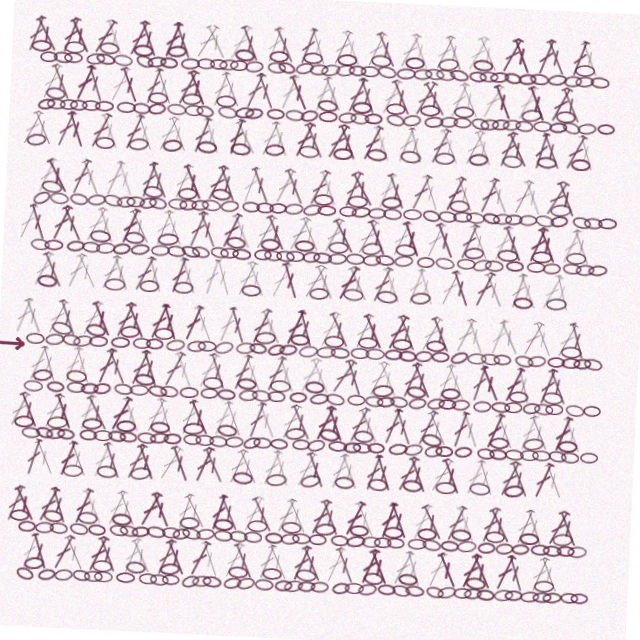chain: (51, 332, 74, 349), (307, 473, 329, 490), (26, 202, 47, 219), (426, 427, 448, 443), (451, 343, 471, 360), (177, 250, 198, 266), (469, 250, 490, 266), (215, 344, 236, 360), (35, 192, 57, 207), (528, 427, 550, 442), (137, 474, 159, 489), (123, 62, 143, 78), (265, 62, 285, 78), (552, 109, 572, 125), (268, 344, 288, 360), (248, 438, 268, 454), (27, 579, 47, 595), (193, 579, 213, 595), (83, 62, 104, 77), (365, 62, 386, 77), (437, 62, 458, 77), (97, 203, 118, 218), (297, 203, 318, 218), (358, 239, 379, 254), (86, 333, 107, 348), (324, 427, 345, 442), (409, 438, 430, 453), (52, 521, 73, 536), (191, 532, 212, 547), (449, 579, 470, 594), (511, 99, 533, 113), (392, 146, 414, 160), (375, 287, 397, 301), (375, 381, 397, 395), (273, 475, 295, 489), (324, 522, 346, 536), (307, 569, 329, 583), (283, 62, 303, 77), (290, 109, 310, 124), (430, 391, 450, 406), (40, 438, 60, 453), (312, 438, 332, 453), (248, 579, 268, 594), (222, 52, 243, 66), (426, 52, 447, 66), (35, 99, 56, 113), (307, 99, 328, 113), (18, 146, 39, 160), (120, 146, 141, 160), (222, 146, 243, 160), (494, 146, 515, 160), (137, 193, 158, 207), (222, 240, 243, 254), (409, 287, 430, 301), (35, 381, 56, 395), (137, 381, 158, 395), (409, 381, 430, 395), (222, 428, 243, 442), (290, 428, 311, 442), (375, 475, 396, 489), (511, 475, 532, 489), (35, 569, 56, 583), (137, 569, 158, 583), (171, 569, 192, 583), (375, 569, 396, 583), (477, 569, 498, 583), (135, 63, 155, 77), (309, 63, 329, 77), (27, 110, 47, 124), (208, 110, 228, 124), (376, 110, 396, 124), (461, 110, 481, 124), (133, 204, 153, 218), (530, 204, 550, 218), (567, 204, 587, 218), (127, 251, 147, 265), (432, 251, 452, 265), (74, 345, 94, 359), (167, 345, 187, 359), (300, 345, 320, 359), (516, 345, 536, 359), (585, 345, 605, 359), (313, 392, 333, 406), (329, 392, 349, 406), (569, 392, 589, 406), (79, 533, 99, 547), (129, 533, 149, 547), (432, 533, 452, 547), (49, 580, 69, 594), (235, 580, 255, 594), (296, 580, 316, 594), (370, 580, 390, 594), (154, 146, 175, 159), (205, 193, 226, 206), (545, 193, 566, 206), (86, 240, 107, 253), (154, 240, 175, 253), (392, 240, 413, 253), (35, 287, 56, 300), (545, 287, 566, 300), (256, 334, 277, 347), (69, 381, 90, 394), (52, 428, 73, 441), (188, 428, 209, 441), (477, 475, 498, 488), (562, 522, 583, 535), (492, 63, 511, 77), (186, 110, 205, 124), (235, 110, 254, 124), (143, 204, 162, 218), (417, 204, 436, 218), (477, 204, 496, 218), (109, 251, 128, 265), (188, 251, 207, 265), (412, 392, 431, 406), (430, 439, 449, 453), (182, 533, 201, 547), (344, 580, 363, 594), (404, 580, 423, 594), (438, 580, 457, 594), (87, 52, 107, 65), (155, 52, 175, 65), (359, 52, 379, 65), (461, 52, 481, 65), (41, 63, 61, 76), (74, 63, 94, 76), (207, 63, 227, 76), (324, 63, 344, 76), (413, 63, 433, 76), (424, 63, 444, 76), (478, 63, 498, 76), (518, 63, 538, 76), (536, 63, 556, 76), (172, 99, 192, 112), (157, 110, 177, 123), (225, 110, 245, 123), (189, 146, 209, 159), (257, 146, 277, 159), (291, 146, 311, 159), (359, 146, 379, 159), (461, 146, 481, 159), (529, 146, 549, 159), (376, 193, 396, 206), (44, 204, 64, 217), (196, 204, 216, 217), (279, 204, 299, 217), (346, 204, 366, 217), (121, 240, 141, 253), (461, 240, 481, 253), (27, 251, 47, 264), (372, 251, 392, 264), (391, 251, 411, 264), (342, 287, 362, 300), (121, 334, 141, 347), (46, 345, 66, 358), (237, 345, 257, 358), (482, 345, 502, 358), (240, 381, 260, 394), (308, 381, 328, 394), (546, 381, 566, 394), (117, 392, 137, 405), (151, 392, 171, 405), (242, 392, 262, 405), (255, 392, 275, 405), (87, 428, 107, 441), (359, 428, 379, 441), (51, 439, 71, 452), (155, 439, 175, 452), (394, 439, 414, 452), (104, 475, 124, 488), (240, 475, 260, 488), (342, 475, 362, 488), (410, 475, 430, 488), (87, 522, 107, 535), (121, 522, 141, 535), (461, 522, 481, 535), (119, 533, 139, 546), (156, 533, 176, 546), (356, 533, 376, 546), (467, 533, 487, 546), (410, 569, 430, 582), (204, 580, 224, 593), (214, 580, 234, 593), (417, 580, 437, 593), (506, 580, 526, 593), (52, 53, 73, 65), (494, 241, 515, 253), (528, 241, 549, 253), (103, 288, 124, 300), (562, 335, 583, 347), (273, 382, 294, 394), (443, 476, 464, 488), (138, 110, 157, 123), (393, 110, 412, 123), (430, 110, 449, 123), (482, 110, 501, 123), (493, 110, 512, 123), (64, 204, 83, 217), (82, 204, 101, 217), (215, 204, 234, 217), (545, 204, 564, 217), (63, 251, 82, 264), (207, 251, 226, 264), (299, 251, 318, 264), (63, 345, 82, 358), (250, 345, 269, 358), (280, 345, 299, 358), (416, 345, 435, 358), (529, 345, 548, 358), (96, 392, 115, 405), (163, 392, 182, 405), (393, 392, 412, 405), (455, 392, 474, 405), (526, 392, 545, 405), (113, 439, 132, 452), (460, 439, 479, 452), (554, 439, 573, 452), (206, 533, 225, 546), (66, 580, 85, 593), (84, 580, 103, 593), (476, 580, 495, 593), (19, 53, 39, 65), (121, 53, 141, 65), (257, 53, 277, 65), (291, 53, 311, 65), (325, 53, 345, 65), (393, 53, 413, 65), (563, 53, 583, 65), (101, 64, 121, 76), (138, 100, 158, 112), (206, 100, 226, 112), (342, 100, 362, 112), (376, 100, 396, 112), (410, 100, 430, 112), (444, 100, 464, 112), (546, 100, 566, 112), (568, 111, 588, 123), (87, 147, 107, 159), (325, 147, 345, 159), (427, 147, 447, 159), (563, 147, 583, 159), (172, 194, 192, 206), (308, 194, 328, 206), (342, 194, 362, 206), (444, 194, 464, 206), (111, 205, 131, 217), (257, 241, 277, 253), (291, 241, 311, 253), (325, 241, 345, 253), (563, 241, 583, 253), (585, 252, 605, 264), (138, 288, 158, 300), (172, 288, 192, 300), (240, 288, 260, 300), (308, 288, 328, 300), (512, 288, 532, 300), (155, 335, 175, 347), (291, 335, 311, 347), (325, 335, 345, 347), (359, 335, 379, 347), (393, 335, 413, 347), (427, 335, 447, 347), (188, 346, 208, 358), (206, 382, 226, 394), (444, 382, 464, 394), (512, 382, 532, 394), (19, 429, 39, 441), (121, 429, 141, 441), (155, 429, 175, 441), (495, 429, 515, 441), (563, 429, 583, 441), (358, 440, 378, 452), (70, 476, 90, 488), (19, 523, 39, 535), (189, 523, 209, 535), (223, 523, 243, 535), (257, 523, 277, 535), (291, 523, 311, 535), (359, 523, 379, 535), (393, 523, 413, 535), (427, 523, 447, 535), (495, 523, 515, 535), (529, 523, 549, 535), (104, 570, 124, 582), (240, 570, 260, 582), (274, 570, 294, 582), (546, 570, 566, 582), (169, 64, 188, 76), (233, 64, 252, 76), (298, 64, 317, 76), (385, 64, 404, 76), (402, 64, 421, 76), (457, 64, 476, 76), (552, 64, 571, 76), (564, 64, 583, 76), (579, 64, 598, 76), (276, 111, 295, 123), (341, 111, 360, 123), (415, 111, 434, 123), (471, 111, 490, 123), (163, 205, 182, 217), (378, 205, 397, 217), (433, 205, 452, 217), (461, 205, 480, 217), (488, 205, 507, 217), (579, 205, 598, 217), (93, 252, 112, 264), (148, 252, 167, 264), (164, 252, 183, 264), (229, 252, 248, 264), (273, 252, 292, 264), (310, 252, 329, 264), (325, 252, 344, 264), (482, 252, 501, 264), (573, 252, 592, 264), (318, 346, 337, 358), (332, 346, 351, 358), (27, 393, 46, 405), (380, 393, 399, 405), (495, 393, 514, 405), (538, 393, 557, 405), (27, 440, 46, 452), (62, 440, 81, 452), (143, 440, 162, 452), (511, 440, 530, 452), (45, 534, 64, 546), (59, 534, 78, 546), (141, 534, 160, 546), (224, 534, 243, 546), (239, 534, 258, 546), (291, 534, 310, 546), (553, 534, 572, 546), (578, 534, 597, 546), (162, 581, 181, 593), (267, 581, 286, 593), (533, 581, 552, 593), (545, 581, 564, 593), (555, 581, 574, 593), (148, 64, 166, 76), (256, 64, 274, 76), (507, 64, 525, 76), (123, 111, 141, 123), (329, 111, 347, 123), (506, 111, 524, 123), (540, 111, 558, 123), (174, 205, 192, 217), (186, 205, 204, 217), (363, 205, 381, 217), (500, 205, 518, 217), (514, 205, 532, 217), (79, 252, 97, 264), (261, 252, 279, 264), (360, 252, 378, 264), (540, 252, 558, 264), (400, 346, 418, 358), (575, 346, 593, 358), (50, 393, 68, 405), (84, 393, 102, 405), (221, 393, 239, 405), (369, 393, 387, 405), (477, 393, 495, 405), (125, 440, 143, 452), (215, 440, 233, 452), (231, 440, 249, 452), (276, 440, 294, 452), (349, 440, 367, 452), (483, 440, 501, 452), (495, 440, 513, 452), (567, 440, 585, 452), (98, 534, 116, 546), (254, 534, 272, 546), (275, 534, 293, 546), (451, 534, 469, 546), (488, 534, 506, 546), (506, 534, 524, 546), (522, 534, 540, 546), (287, 581, 305, 593), (310, 581, 328, 593), (323, 581, 341, 593), (489, 581, 507, 593), (52, 64, 71, 75), (349, 64, 368, 75), (468, 64, 487, 75), (37, 111, 56, 122), (72, 111, 91, 122), (85, 111, 104, 122), (107, 111, 126, 122), (175, 111, 194, 122), (309, 111, 328, 122), (524, 111, 543, 122), (121, 205, 140, 216), (312, 205, 331, 216), (398, 205, 417, 216), (448, 205, 467, 216), (593, 205, 612, 216), (41, 252, 60, 263), (217, 252, 236, 263), (283, 252, 302, 263), (343, 252, 362, 263), (454, 252, 473, 263), (524, 252, 543, 263), (560, 252, 579, 263), (27, 346, 46, 357), (90, 346, 109, 357), (112, 346, 131, 357), (199, 346, 218, 357), (352, 346, 371, 357), (367, 346, 386, 357), (469, 346, 488, 357), (563, 346, 582, 357), (70, 393, 89, 404), (133, 393, 152, 404), (183, 393, 202, 404), (99, 440, 118, 451), (201, 440, 220, 451), (334, 440, 353, 451), (526, 440, 545, 451), (538, 440, 557, 451), (302, 534, 321, 545), (372, 534, 391, 545), (418, 534, 437, 545), (541, 534, 560, 545), (96, 581, 115, 592), (106, 581, 125, 592), (128, 581, 147, 592), (357, 581, 376, 592), (28, 64, 46, 75), (185, 64, 203, 75), (198, 64, 216, 75), (218, 64, 236, 75), (337, 64, 355, 75), (50, 111, 68, 122), (60, 111, 78, 122), (257, 111, 275, 122), (355, 111, 373, 122), (444, 111, 462, 122), (588, 111, 606, 122), (237, 205, 255, 216), (251, 205, 269, 216), (264, 205, 282, 216), (334, 205, 352, 216), (251, 252, 269, 263), (414, 252, 432, 263), (503, 252, 521, 263), (134, 346, 152, 357), (147, 346, 165, 357), (386, 346, 404, 357), (433, 346, 451, 357), (495, 346, 513, 357), (549, 346, 567, 357), (204, 393, 222, 404), (271, 393, 289, 404), (293, 393, 311, 404), (351, 393, 369, 404), (442, 393, 460, 404), (508, 393, 526, 404), (549, 393, 567, 404), (587, 393, 605, 404), (85, 440, 103, 451), (169, 440, 187, 451), (189, 440, 207, 451), (259, 440, 277, 451), (298, 440, 316, 451), (373, 440, 391, 451), (441, 440, 459, 451), (586, 440, 604, 451), (28, 534, 46, 545), (172, 534, 190, 545), (319, 534, 337, 545), (341, 534, 359, 545), (384, 534, 402, 545), (397, 534, 415, 545), (567, 534, 585, 545), (151, 581, 169, 592), (174, 581, 192, 592), (390, 581, 408, 592), (466, 581, 484, 592), (517, 581, 535, 592), (573, 581, 591, 592), (583, 581, 601, 592)
double: (410, 75, 439, 113), (342, 169, 371, 206), (332, 357, 361, 394), (434, 451, 463, 488), (20, 28, 48, 66), (78, 28, 106, 66), (180, 28, 208, 66), (401, 75, 429, 113), (37, 169, 65, 207), (537, 169, 565, 207), (326, 216, 354, 254), (299, 263, 327, 301), (88, 404, 116, 442), (163, 451, 191, 489), (190, 498, 218, 536), (54, 28, 81, 66), (190, 28, 217, 66), (214, 28, 241, 66), (384, 28, 411, 66), (452, 28, 479, 66), (462, 28, 489, 66), (486, 28, 513, 66), (469, 75, 496, 113), (537, 75, 564, 113), (10, 122, 37, 160), (146, 122, 173, 160), (224, 122, 251, 160), (316, 122, 343, 160), (496, 122, 523, 160), (554, 122, 581, 160), (78, 216, 105, 254), (122, 216, 149, 254), (248, 216, 275, 254), (282, 216, 309, 254), (350, 216, 377, 254), (71, 263, 98, 301), (129, 263, 156, 301), (333, 263, 360, 301), (343, 263, 370, 301), (537, 263, 564, 301), (44, 310, 71, 348), (258, 310, 285, 348), (418, 310, 445, 348), (520, 310, 547, 348), (554, 310, 581, 348), (163, 357, 190, 395), (112, 404, 139, 442), (360, 404, 387, 442), (207, 451, 234, 489), (241, 451, 268, 489), (20, 498, 47, 536), (44, 498, 71, 536), (146, 498, 173, 536), (258, 498, 285, 536), (428, 498, 455, 536), (496, 498, 523, 536), (554, 498, 581, 536), (61, 545, 88, 583), (139, 545, 166, 583), (401, 545, 428, 583), (113, 28, 139, 66), (259, 28, 285, 66), (361, 28, 387, 66), (419, 28, 445, 66), (96, 75, 122, 113), (164, 75, 190, 113), (368, 75, 394, 113), (378, 75, 404, 113), (446, 75, 472, 113), (504, 75, 530, 113), (548, 75, 574, 113), (21, 122, 47, 160), (79, 122, 105, 160), (283, 122, 309, 160), (293, 122, 319, 160), (351, 122, 377, 160), (419, 122, 445, 160), (453, 122, 479, 160), (174, 169, 200, 207), (198, 169, 224, 207), (266, 169, 292, 207), (300, 169, 326, 207), (402, 169, 428, 207), (436, 169, 462, 207), (480, 169, 506, 207), (504, 169, 530, 207), (55, 216, 81, 254), (225, 216, 251, 254), (259, 216, 285, 254), (293, 216, 319, 254), (317, 216, 343, 254), (28, 263, 54, 301), (38, 263, 64, 301), (96, 263, 122, 301), (232, 263, 258, 301), (266, 263, 292, 301), (310, 263, 336, 301), (470, 263, 496, 301), (79, 310, 105, 348), (89, 310, 115, 348), (123, 310, 149, 348), (317, 310, 343, 348), (327, 310, 353, 348), (361, 310, 387, 348), (385, 310, 411, 348), (453, 310, 479, 348), (497, 310, 523, 348), (106, 357, 132, 395), (198, 357, 224, 395), (300, 357, 326, 395), (310, 357, 336, 395), (368, 357, 394, 395), (378, 357, 404, 395), (480, 357, 506, 395), (504, 357, 530, 395), (11, 404, 37, 442), (45, 404, 71, 442), (147, 404, 173, 442), (191, 404, 217, 442), (293, 404, 319, 442), (317, 404, 343, 442), (351, 404, 377, 442), (419, 404, 445, 442), (429, 404, 455, 442), (531, 404, 557, 442), (38, 451, 64, 489), (130, 451, 156, 489), (300, 451, 326, 489), (402, 451, 428, 489), (504, 451, 530, 489), (89, 498, 115, 536), (157, 498, 183, 536), (225, 498, 251, 536), (249, 498, 275, 536), (293, 498, 319, 536), (317, 498, 343, 536), (351, 498, 377, 536), (361, 498, 387, 536), (72, 545, 98, 583), (96, 545, 122, 583), (174, 545, 200, 583), (198, 545, 224, 583), (232, 545, 258, 583), (242, 545, 268, 583), (276, 545, 302, 583), (310, 545, 336, 583), (446, 545, 472, 583), (480, 545, 506, 583), (225, 28, 250, 66), (317, 28, 342, 66), (327, 28, 352, 66), (351, 28, 376, 66), (497, 28, 522, 66), (531, 28, 556, 66), (565, 28, 590, 66), (28, 75, 53, 113), (38, 75, 63, 113), (62, 75, 87, 113), (174, 75, 199, 113), (208, 75, 233, 113), (232, 75, 257, 113), (276, 75, 301, 113), (310, 75, 335, 113), (334, 75, 359, 113), (480, 75, 505, 113), (45, 122, 70, 160), (89, 122, 114, 160), (113, 122, 138, 160), (157, 122, 182, 160), (249, 122, 274, 160), (327, 122, 352, 160), (429, 122, 454, 160), (463, 122, 488, 160), (531, 122, 556, 160), (28, 169, 53, 207), (62, 169, 87, 207), (72, 169, 97, 207), (96, 169, 121, 207), (140, 169, 165, 207), (164, 169, 189, 207), (242, 169, 267, 207), (276, 169, 301, 207), (310, 169, 335, 207), (378, 169, 403, 207), (446, 169, 471, 207), (548, 169, 573, 207), (11, 216, 36, 254), (45, 216, 70, 254), (157, 216, 182, 254), (191, 216, 216, 254), (215, 216, 240, 254), (361, 216, 386, 254), (385, 216, 410, 254), (419, 216, 444, 254), (429, 216, 454, 254), (453, 216, 478, 254), (463, 216, 488, 254), (487, 216, 512, 254), (497, 216, 522, 254), (531, 216, 556, 254), (555, 216, 580, 254), (62, 263, 87, 301), (242, 263, 267, 301), (368, 263, 393, 301), (378, 263, 403, 301), (436, 263, 461, 301), (480, 263, 505, 301), (514, 263, 539, 301), (21, 310, 46, 348), (113, 310, 138, 348), (147, 310, 172, 348), (191, 310, 216, 348), (249, 310, 274, 348), (283, 310, 308, 348), (395, 310, 420, 348), (429, 310, 454, 348), (531, 310, 556, 348), (28, 357, 53, 395), (130, 357, 155, 395), (174, 357, 199, 395), (266, 357, 291, 395), (402, 357, 427, 395), (412, 357, 437, 395), (446, 357, 471, 395), (548, 357, 573, 395), (21, 404, 46, 442), (215, 404, 240, 442), (259, 404, 284, 442), (283, 404, 308, 442), (497, 404, 522, 442), (565, 404, 590, 442), (72, 451, 97, 489), (232, 451, 257, 489), (344, 451, 369, 489), (446, 451, 471, 489), (470, 451, 495, 489), (514, 451, 539, 489), (538, 451, 563, 489), (548, 451, 573, 489), (113, 498, 138, 536), (123, 498, 148, 536), (283, 498, 308, 536), (327, 498, 352, 536), (419, 498, 444, 536), (453, 498, 478, 536), (463, 498, 488, 536), (565, 498, 590, 536), (106, 545, 131, 583), (334, 545, 359, 583), (344, 545, 369, 583), (378, 545, 403, 583), (436, 545, 461, 583), (470, 545, 495, 583), (504, 545, 529, 583), (548, 545, 573, 583), (46, 28, 70, 66), (90, 28, 114, 66), (124, 28, 148, 66), (148, 28, 172, 66), (158, 28, 182, 66), (396, 28, 420, 66), (430, 28, 454, 66), (522, 28, 546, 66), (107, 75, 131, 113), (141, 75, 165, 113), (243, 75, 267, 113), (267, 75, 291, 113), (345, 75, 369, 113), (437, 75, 461, 113), (515, 75, 539, 113), (124, 122, 148, 160), (260, 122, 284, 160), (362, 122, 386, 160), (386, 122, 410, 160), (488, 122, 512, 160), (107, 169, 131, 207), (209, 169, 233, 207), (335, 169, 359, 207), (369, 169, 393, 207), (471, 169, 495, 207), (515, 169, 539, 207), (90, 216, 114, 254), (114, 216, 138, 254), (182, 216, 206, 254), (396, 216, 420, 254), (522, 216, 546, 254), (566, 216, 590, 254), (107, 263, 131, 301), (447, 263, 471, 301), (12, 310, 36, 348), (56, 310, 80, 348), (182, 310, 206, 348), (216, 310, 240, 348), (352, 310, 376, 348), (464, 310, 488, 348), (63, 357, 87, 395), (97, 357, 121, 395), (233, 357, 257, 395), (243, 357, 267, 395), (277, 357, 301, 395), (56, 404, 80, 442), (124, 404, 148, 442), (226, 404, 250, 442), (328, 404, 352, 442), (396, 404, 420, 442), (488, 404, 512, 442), (522, 404, 546, 442), (556, 404, 580, 442), (97, 451, 121, 489), (107, 451, 131, 489), (141, 451, 165, 489), (175, 451, 199, 489), (199, 451, 223, 489), (267, 451, 291, 489), (311, 451, 335, 489), (413, 451, 437, 489), (12, 498, 36, 536), (80, 498, 104, 536), (396, 498, 420, 536), (488, 498, 512, 536), (522, 498, 546, 536), (532, 498, 556, 536), (131, 545, 155, 583), (165, 545, 189, 583), (209, 545, 233, 583), (301, 545, 325, 583), (369, 545, 393, 583), (539, 545, 563, 583), (12, 28, 35, 66), (284, 28, 307, 66), (294, 28, 317, 66), (556, 28, 579, 66), (73, 75, 96, 113), (199, 75, 222, 113), (301, 75, 324, 113), (56, 122, 79, 160), (182, 122, 205, 160), (192, 122, 215, 160), (233, 169, 256, 207), (413, 169, 436, 207), (22, 216, 45, 254), (148, 216, 171, 254), (175, 263, 198, 301), (277, 263, 300, 301), (403, 263, 426, 301), (413, 263, 436, 301), (488, 310, 511, 348), (73, 357, 96, 395), (141, 357, 164, 395), (209, 357, 232, 395), (345, 357, 368, 395), (437, 357, 460, 395), (539, 357, 562, 395), (158, 404, 181, 442), (182, 404, 205, 442), (250, 404, 273, 442), (386, 404, 409, 442), (464, 404, 487, 442), (63, 451, 86, 489), (277, 451, 300, 489), (335, 451, 358, 489), (369, 451, 392, 489), (379, 451, 402, 489), (481, 451, 504, 489), (56, 498, 79, 536), (29, 545, 52, 583), (267, 545, 290, 583), (251, 28, 273, 66), (132, 75, 154, 113), (217, 122, 239, 160), (567, 122, 589, 160), (132, 169, 154, 207), (142, 263, 164, 301), (166, 263, 188, 301), (210, 263, 232, 301), (506, 263, 528, 301), (159, 310, 181, 348), (227, 310, 249, 348), (295, 310, 317, 348), (567, 310, 589, 348), (40, 357, 62, 395), (81, 404, 103, 442), (183, 498, 205, 536), (217, 498, 239, 536), (387, 498, 409, 536), (40, 545, 62, 583), (414, 545, 436, 583), (516, 545, 538, 583), (397, 122, 418, 160), (523, 122, 544, 160), (200, 263, 221, 301), (550, 263, 571, 301), (472, 357, 493, 395), (516, 357, 537, 395), (455, 404, 476, 442), (30, 451, 51, 489)
noise: (0, 351, 28, 364)
